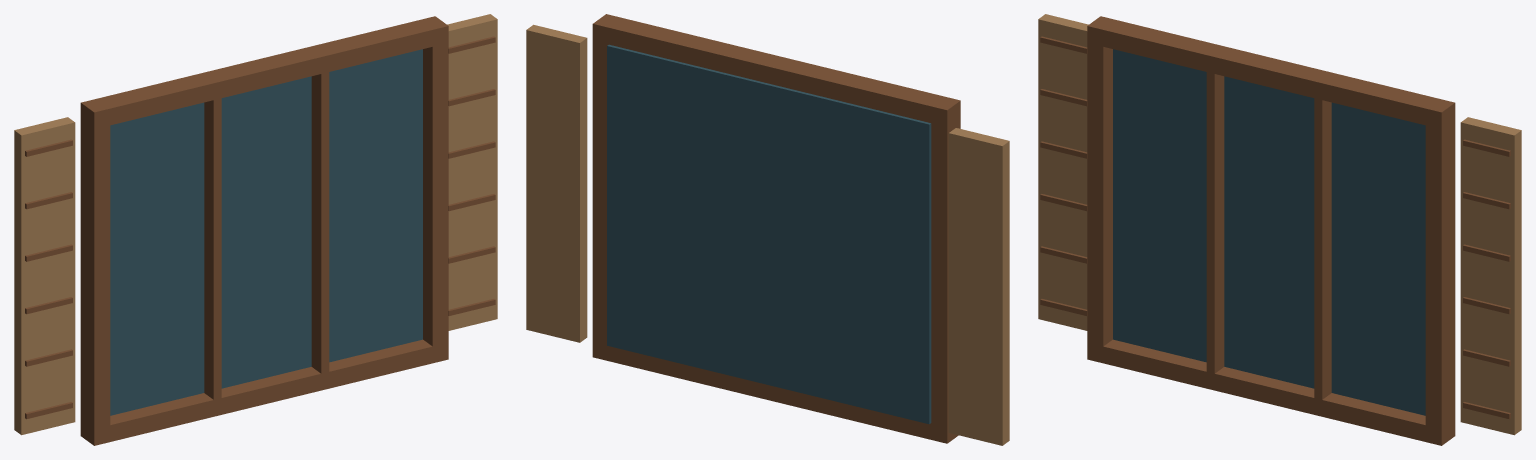
The model's file is window_07.glb.
3 views of the same model, side by side, from view 1: azimuth 30°, elevation 25°; view 2: azimuth 150°, elevation 25°; view 3: azimuth 330°, elevation 25° (orthographic).
Parts seen in each view (by area): view 1: window_07; view 2: window_07; view 3: window_07.
Boxes of the visible parts, x1,y1,x2,y2 form: window_07: [14, 14, 497, 445]; window_07: [526, 14, 1009, 445]; window_07: [1038, 14, 1521, 445].
Bounding box in the file's own units: 2.66 × 1.78 × 0.185.
